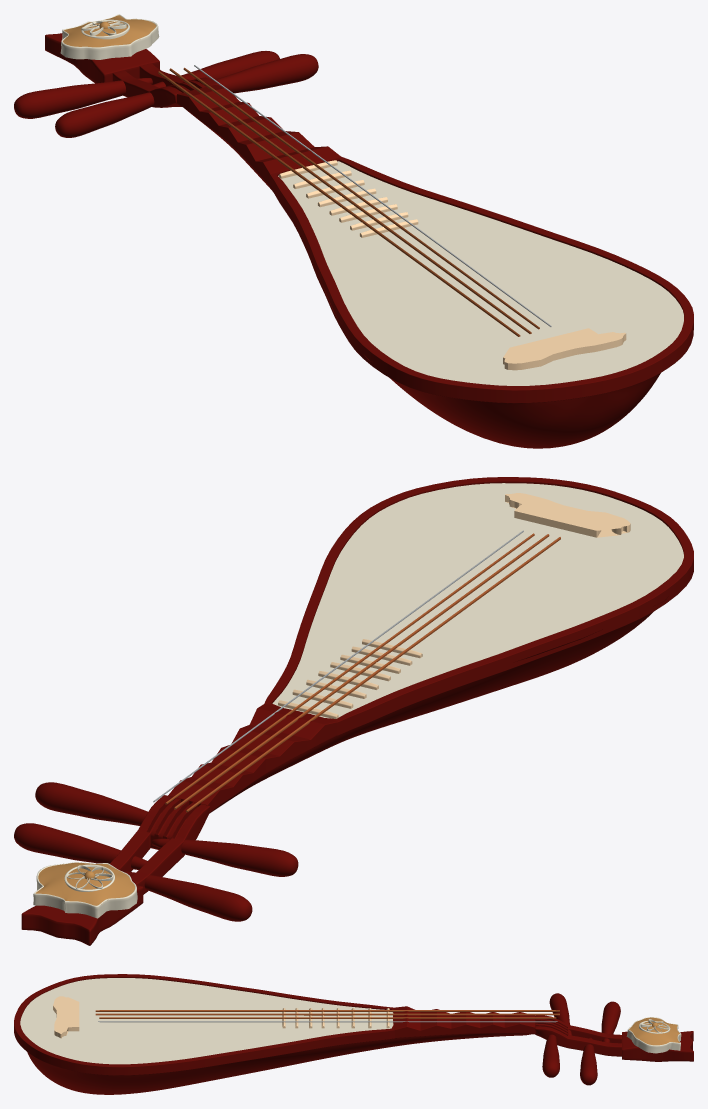
Rendered from pipa_gai.fbx.
The picture shows the model from 3 angles, top to bottom: view 1: azimuth 30°, elevation 25°; view 2: azimuth 150°, elevation 25°; view 3: azimuth 270°, elevation 25°; orthographic projection. The views are drawn at different scales.
Visible parts, largest first — view 1: polySurface7, polySurface6, pSphere1, pCube1, polySurface15, pSphere4, pSphere2, pSphere5, pCube27, pCube2, polySurface13, polySurface11 (+5 smaller); view 2: polySurface7, polySurface6, pCube1, pSphere1, pCube2, polySurface15, pSphere5, pSphere2, pSphere3, polySurface13, pCube27, pSphere4 (+5 smaller); view 3: polySurface7, polySurface6, pSphere1, pCube1, pCube2, pCube3.009, pCube27, polySurface15, pCube3.008, pCube3.010, pCube3.011, polySurface13 (+5 smaller).
Part boxes in pixels (x1,y1,x2,y2): polySurface7: [278, 161, 683, 385]; polySurface6: [269, 156, 693, 403]; pSphere1: [184, 108, 660, 448]; pCube1: [177, 85, 340, 185]; polySurface15: [503, 328, 626, 370]; pSphere4: [14, 78, 152, 118]; pSphere2: [213, 54, 318, 93]; pSphere5: [55, 92, 154, 137]; pCube27: [45, 33, 159, 83]; pCube2: [112, 63, 218, 107]; polySurface13: [63, 15, 155, 47]; polySurface11: [60, 14, 159, 59]; polySurface7: [272, 483, 683, 718]; polySurface6: [264, 477, 693, 735]; pCube1: [168, 703, 337, 812]; pSphere1: [209, 596, 668, 813]; pCube2: [110, 795, 209, 894]; polySurface15: [505, 493, 630, 537]; pSphere5: [152, 838, 298, 876]; pSphere2: [35, 782, 147, 825]; pSphere3: [14, 823, 147, 869]; polySurface13: [35, 862, 134, 905]; pCube27: [21, 885, 143, 945]; pSphere4: [123, 871, 252, 921]; polySurface7: [20, 978, 393, 1064]; polySurface6: [14, 974, 394, 1075]; pSphere1: [27, 1033, 535, 1094]; pCube1: [394, 1006, 535, 1038]; pCube2: [535, 1015, 621, 1056]; pCube3.009: [95, 1013, 559, 1015]; pCube27: [622, 1031, 693, 1061]; polySurface15: [53, 996, 79, 1038]; pCube3.008: [95, 1010, 559, 1011]; pCube3.010: [99, 1017, 556, 1018]; pCube3.011: [98, 1021, 557, 1022]; polySurface13: [629, 1017, 679, 1045].
Bounding box in the file's own units: 512 × 180 × 1572.
